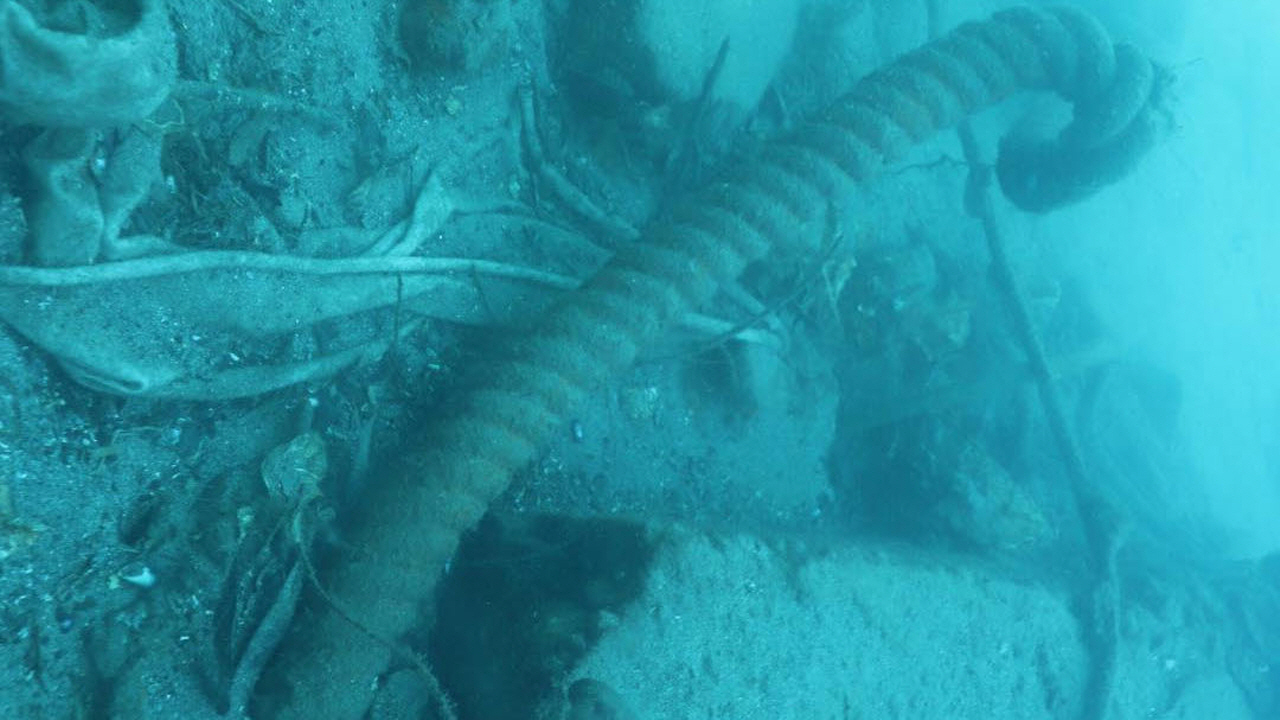rope: (247, 0, 1182, 720)
